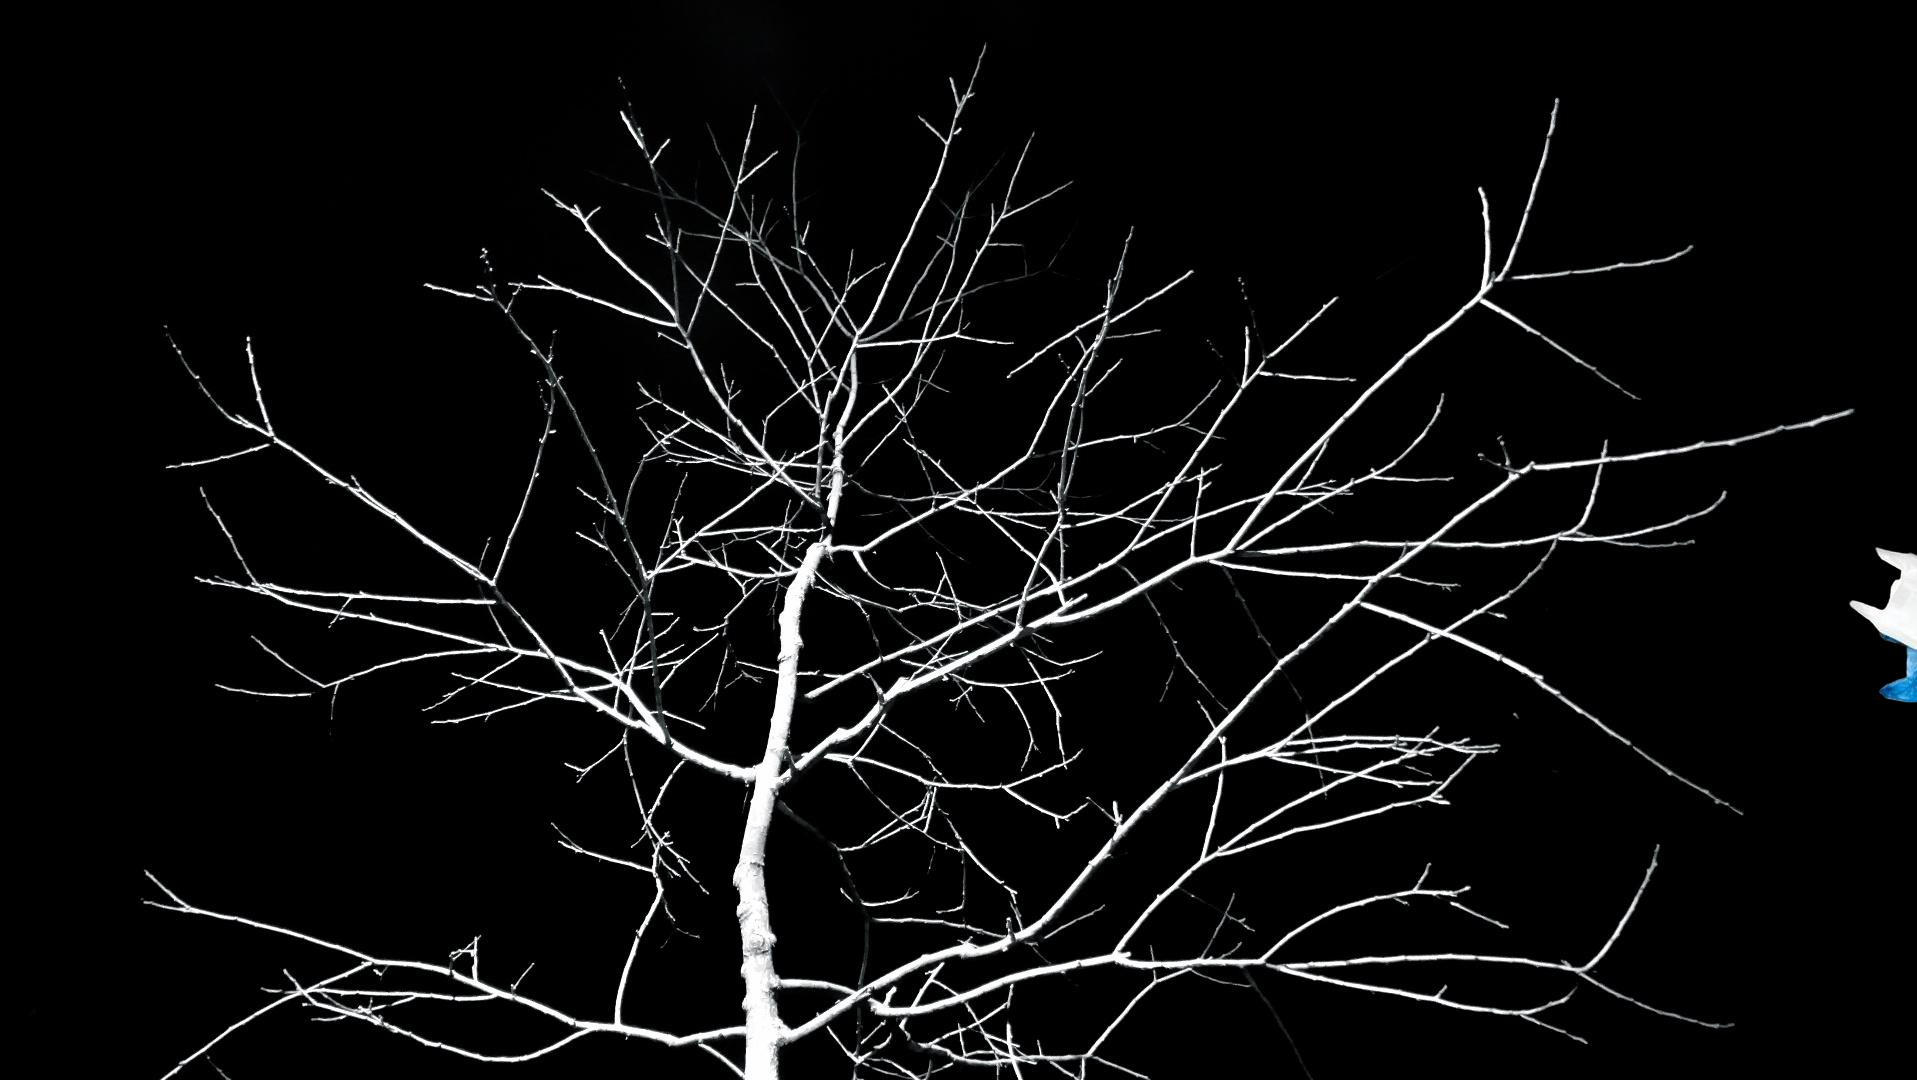plastic-bag: (1845, 543, 1917, 705)
